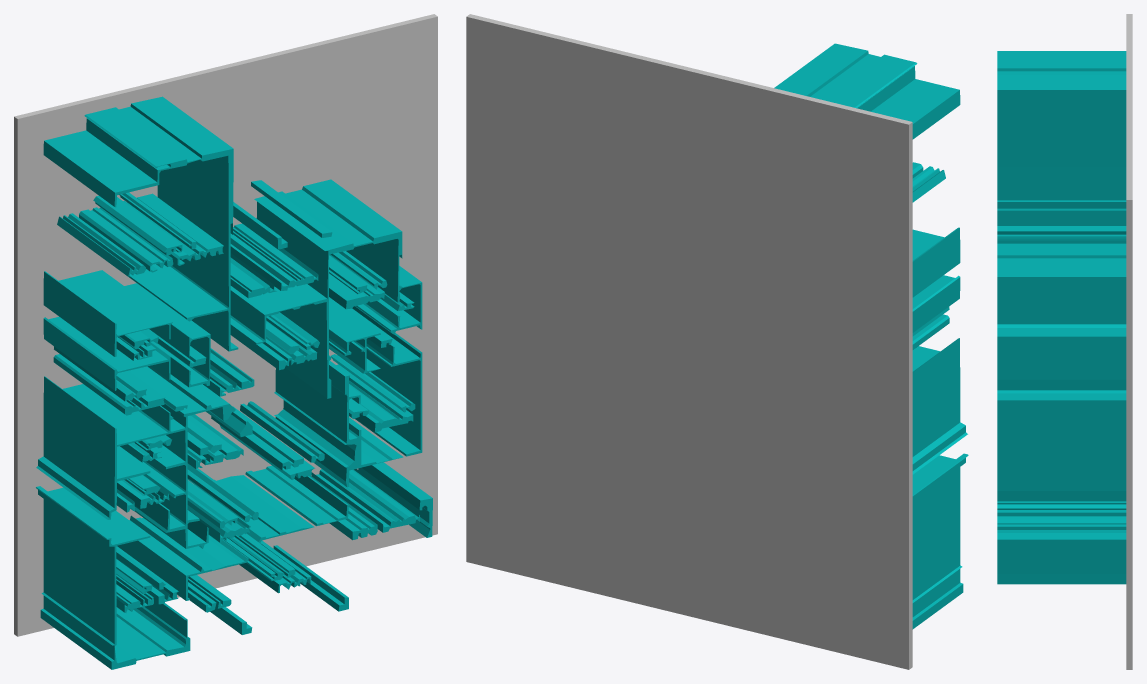
The picture shows the model from 3 angles, left to right: view 1: azimuth 30°, elevation 25°; view 2: azimuth 150°, elevation 25°; view 3: azimuth 270°, elevation 25°; orthographic projection. The views are drawn at different scales.
Visible parts, largest first — view 1: world; view 2: world; view 3: world.
Boxes of the visible parts, x1,y1,x2,y2 form: world: [14, 14, 437, 669]; world: [466, 14, 968, 669]; world: [997, 14, 1132, 669].
Size of the model in its own units: 10.23 by 12.04 by 3.15.
